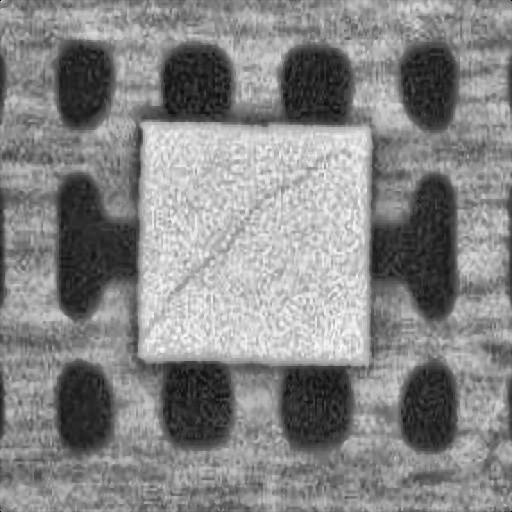DIE_CRACK: (140, 154, 334, 337)
